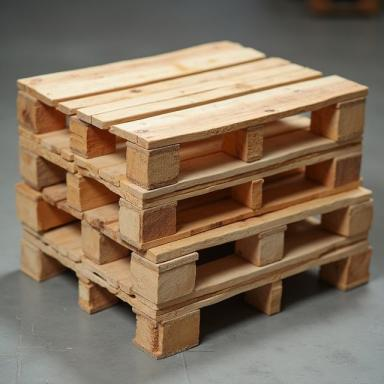pallet: (16, 40, 369, 199), (15, 181, 374, 311), (20, 230, 373, 360), (18, 135, 363, 251), (176, 187, 231, 218), (263, 111, 311, 138), (195, 240, 236, 267), (284, 214, 323, 238)
